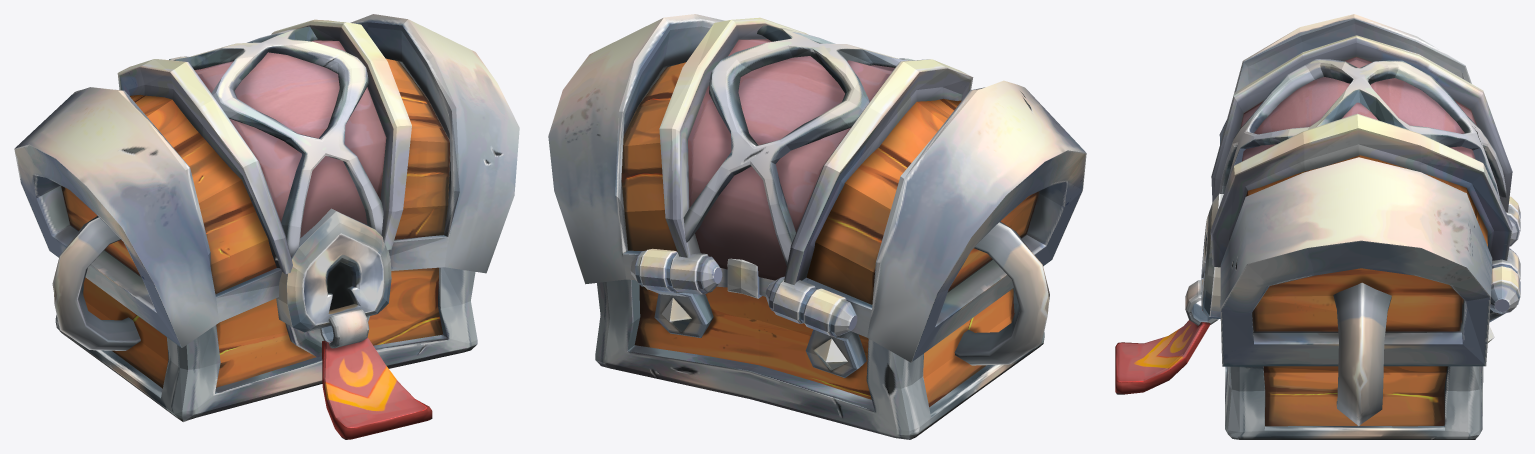
Rendered from TeasureII20210404.fbx.
The picture shows the model from 3 angles, left to right: view 1: azimuth 30°, elevation 25°; view 2: azimuth 150°, elevation 25°; view 3: azimuth 270°, elevation 25°; orthographic projection. The views are drawn at different scales.
Visible parts, largest first — view 1: Object007; view 2: Object007; view 3: Object007.
Boxes of the visible parts, x1=… form: Object007: x1=14, y1=14, x2=519, y2=439; Object007: x1=548, y1=14, x2=1086, y2=439; Object007: x1=1115, y1=14, x2=1520, y2=439.
Bounding box in the file's own units: 289 × 193 × 239.
1 material, 1 textured.
